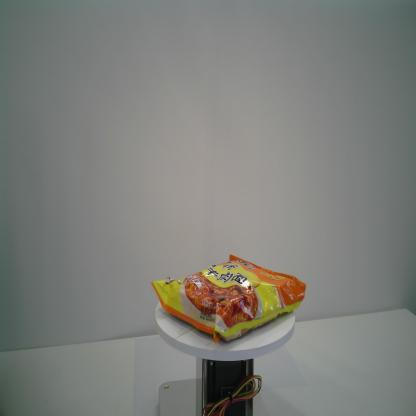Instant Noodles: (151, 254, 306, 344)
